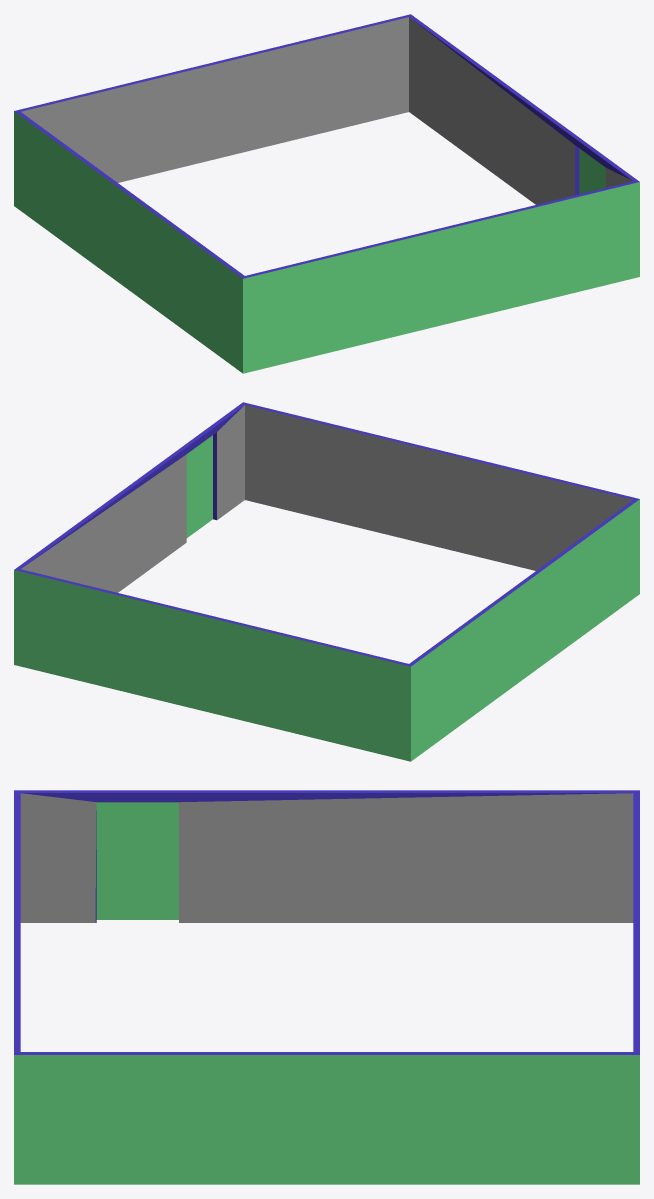
Rendered from pared.fbx.
The picture shows the model from 3 angles, top to bottom: view 1: azimuth 30°, elevation 25°; view 2: azimuth 150°, elevation 25°; view 3: azimuth 270°, elevation 25°; orthographic projection. The views are drawn at different scales.
Visible parts, largest first — view 1: Pared; view 2: Pared; view 3: Pared.
Boxes of the visible parts, left/top/right/bottom form: Pared: left=14, top=14, right=639, bottom=373; Pared: left=14, top=402, right=639, bottom=761; Pared: left=14, top=790, right=639, bottom=1184.
Size of the model in its own units: 940 by 215 by 940.
